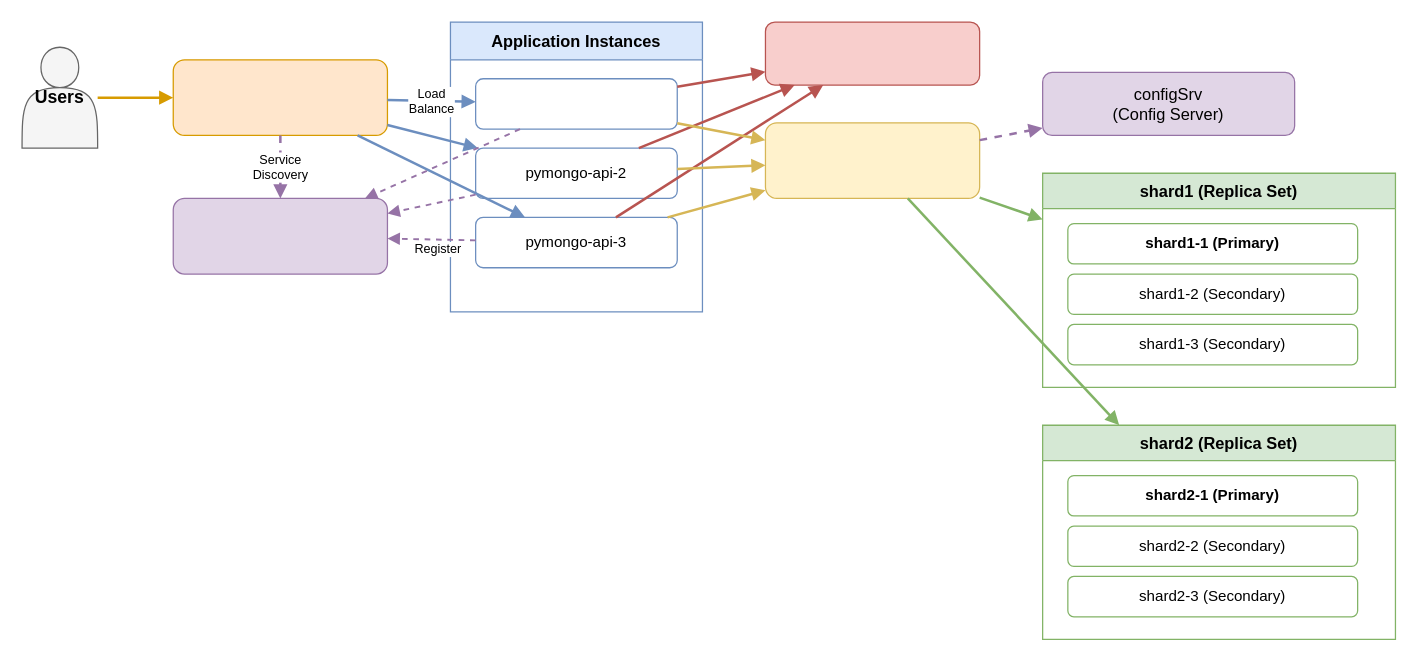
Some shapes in this 1418 by 662 pixel diagram are drawn without their labels. Each missing label, with the centre of its shape:
API Gateway (Kong/Nginx): (279,97)
Consul (Service Discovery): (279,235)
mongos (Router): (872,160)
pymongo-api-1: (575,103)
redis (Cache): (872,53)
